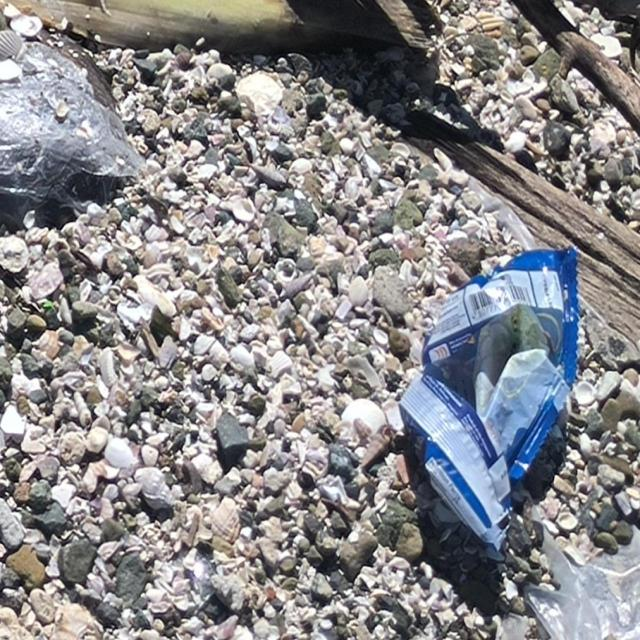litter: (402, 252, 586, 556)
